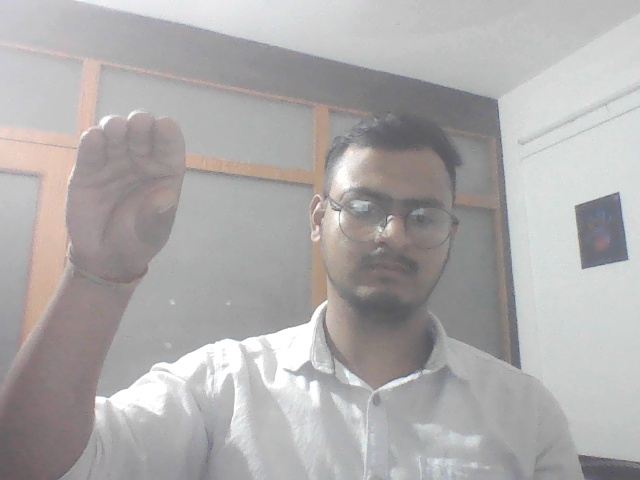NO: (53, 101, 191, 306)
